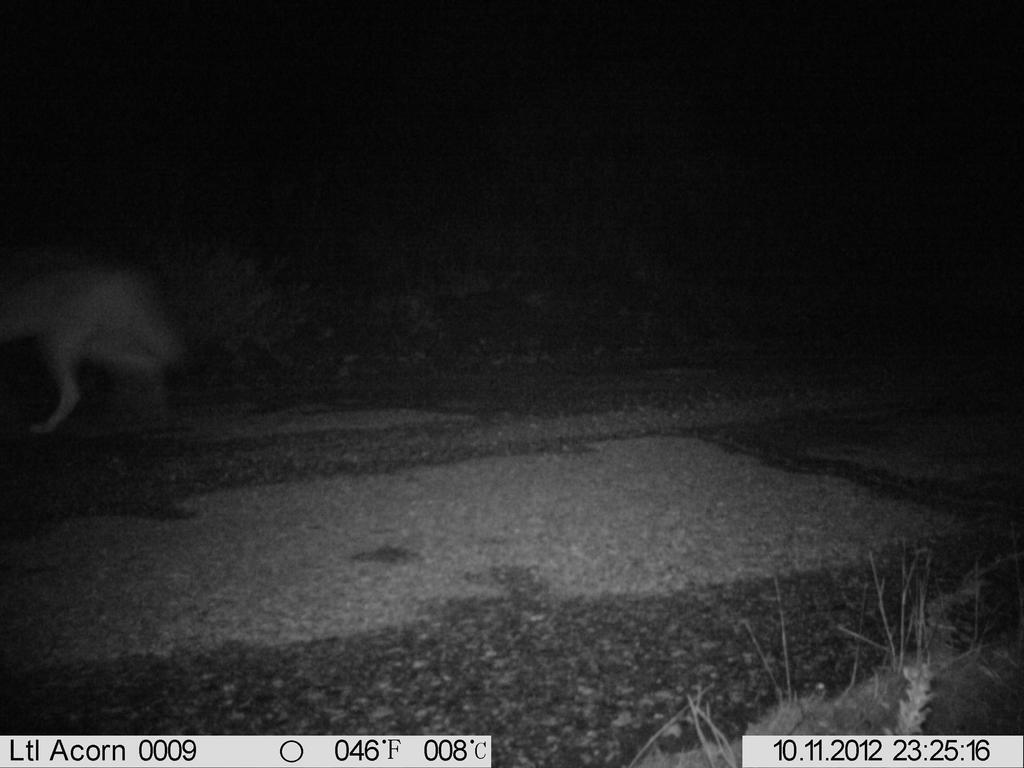coyote: (3, 251, 207, 433)
